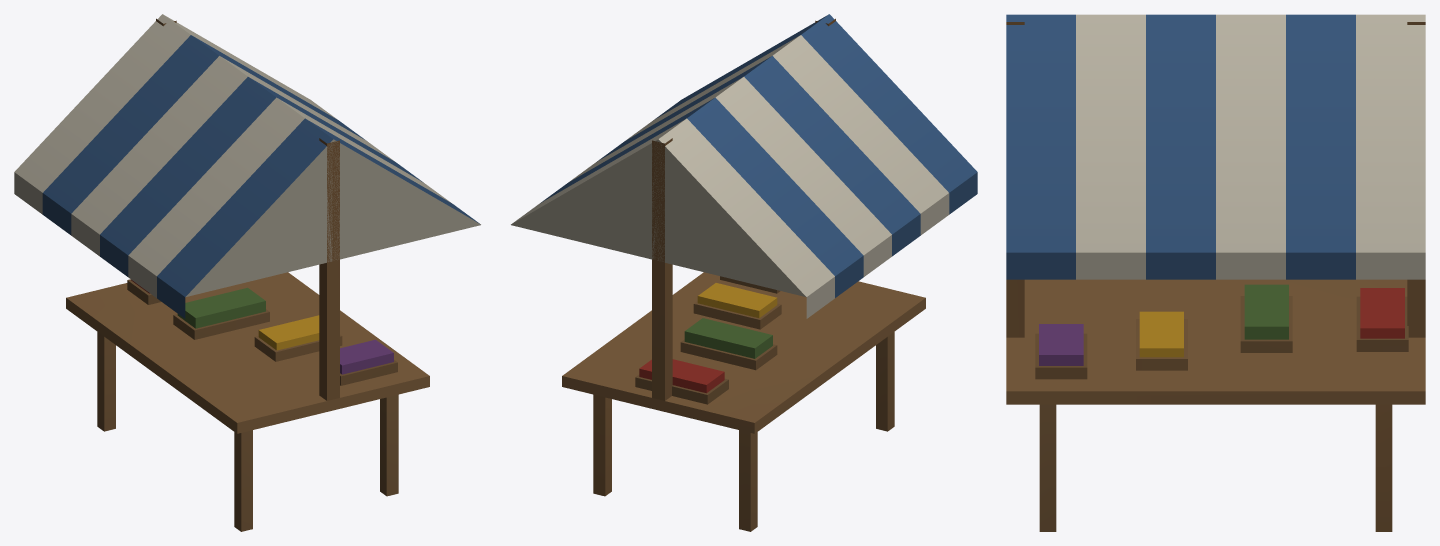
The model's file is stall.market.blue.glb.
3 renders of one model, left to right at view 1: azimuth 30°, elevation 25°; view 2: azimuth 150°, elevation 25°; view 3: azimuth 270°, elevation 25°, orthographic. The views are drawn at different scales.
Parts seen in each view (by area): view 1: stall_market_blue; view 2: stall_market_blue; view 3: stall_market_blue.
Part boxes in pixels (bbox=[...]): stall_market_blue: bbox=[14, 14, 480, 531]; stall_market_blue: bbox=[511, 14, 977, 531]; stall_market_blue: bbox=[1006, 14, 1425, 531].
Size of what is drawn, in the model's own units: 2.26 by 2.8 by 2.26.
